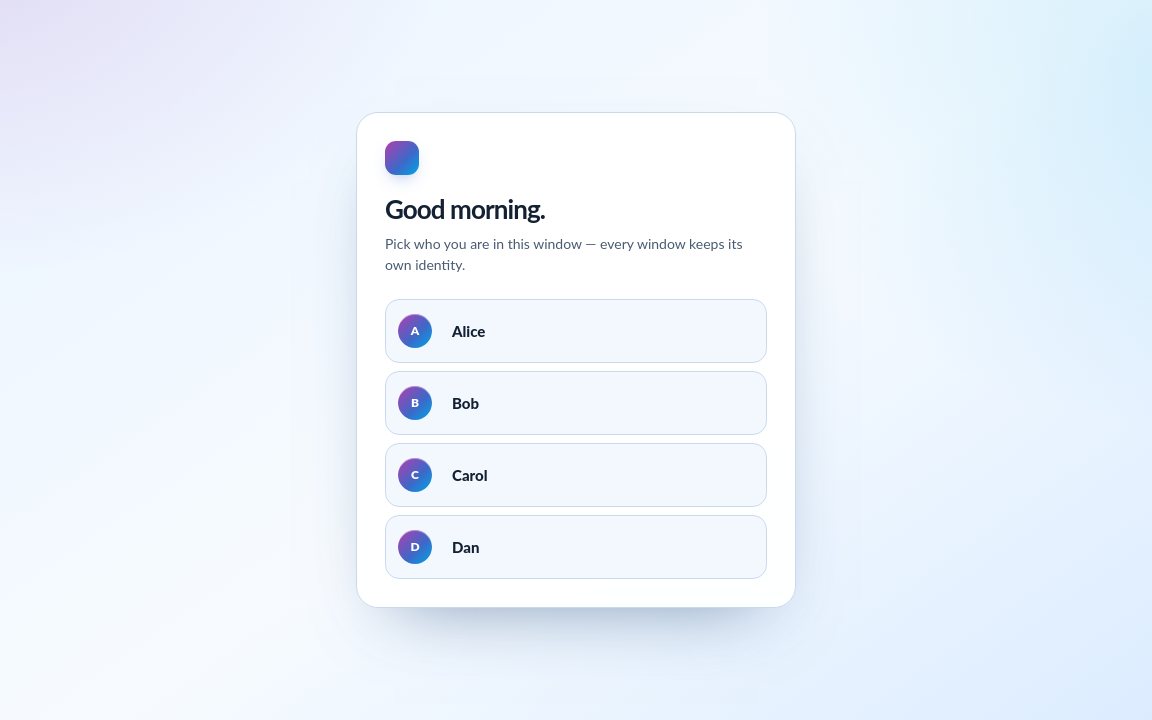
Test: conversation creation dialog — focus (task 3.6) › returns focus to the `+` control on dismissal (Escape)
Click the button "A Alice" at point(415, 331), box [385, 299, 767, 363]
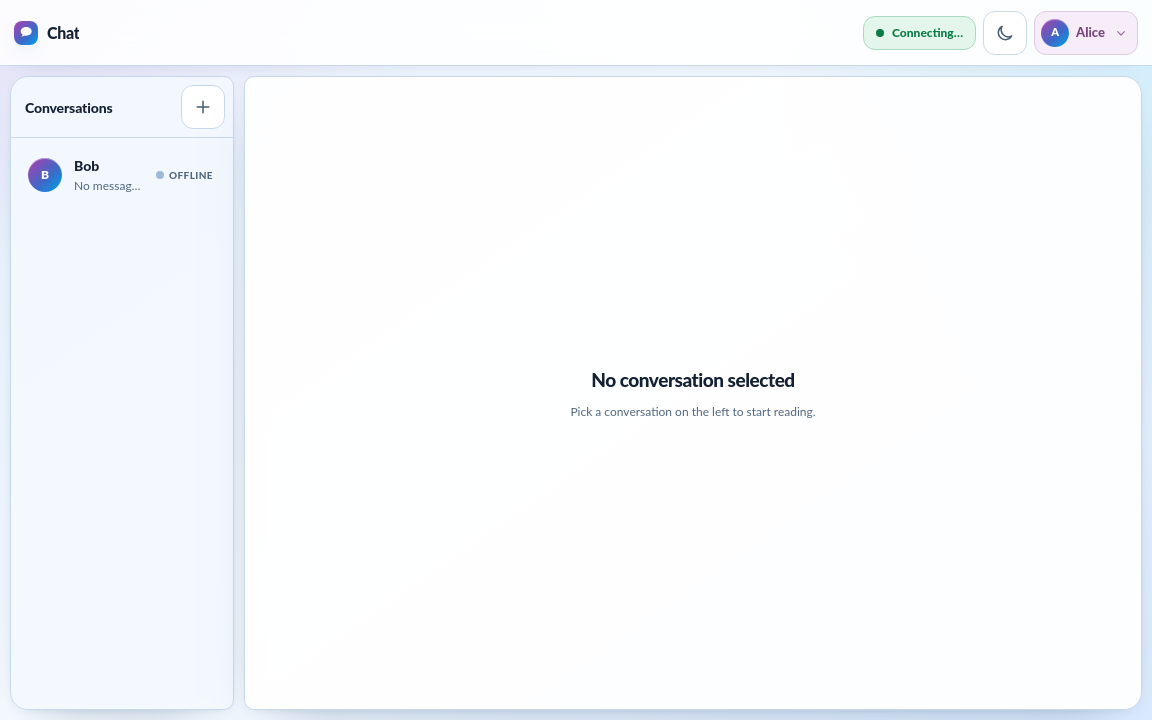
Click the button "B Bob No messages yet Offline" at point(122, 175), box [19, 146, 225, 204]
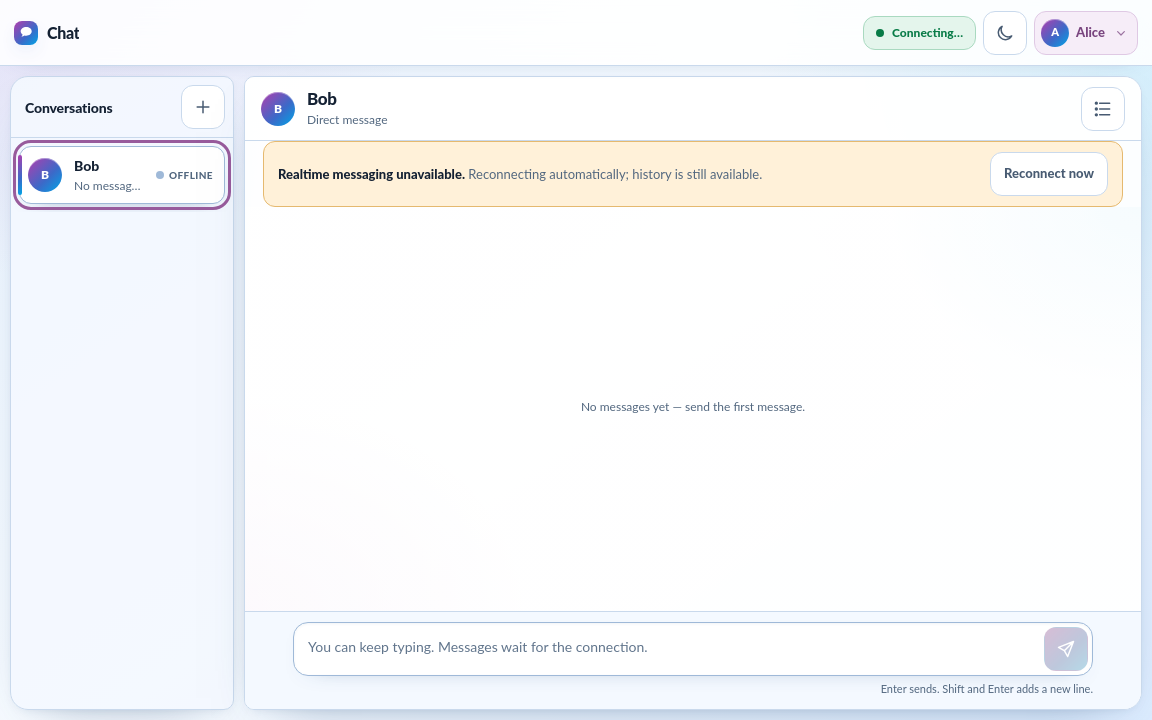
Click the button named "New conversation" at point(203, 107), box [181, 85, 225, 129]
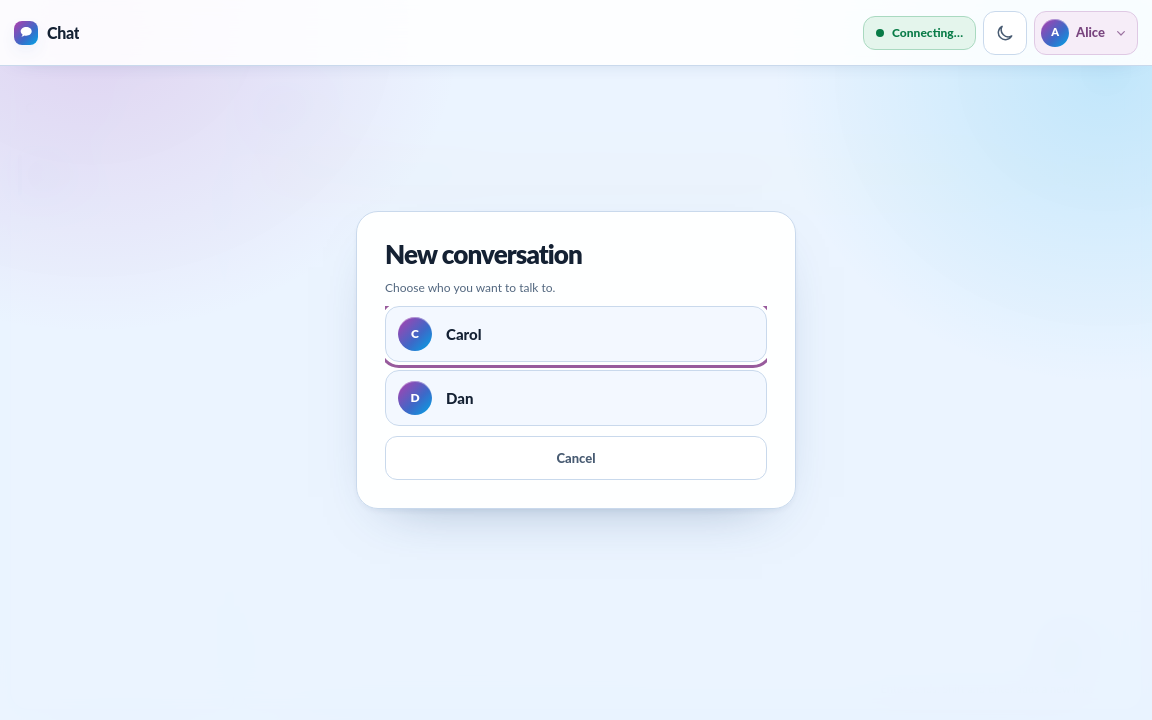
Press Escape
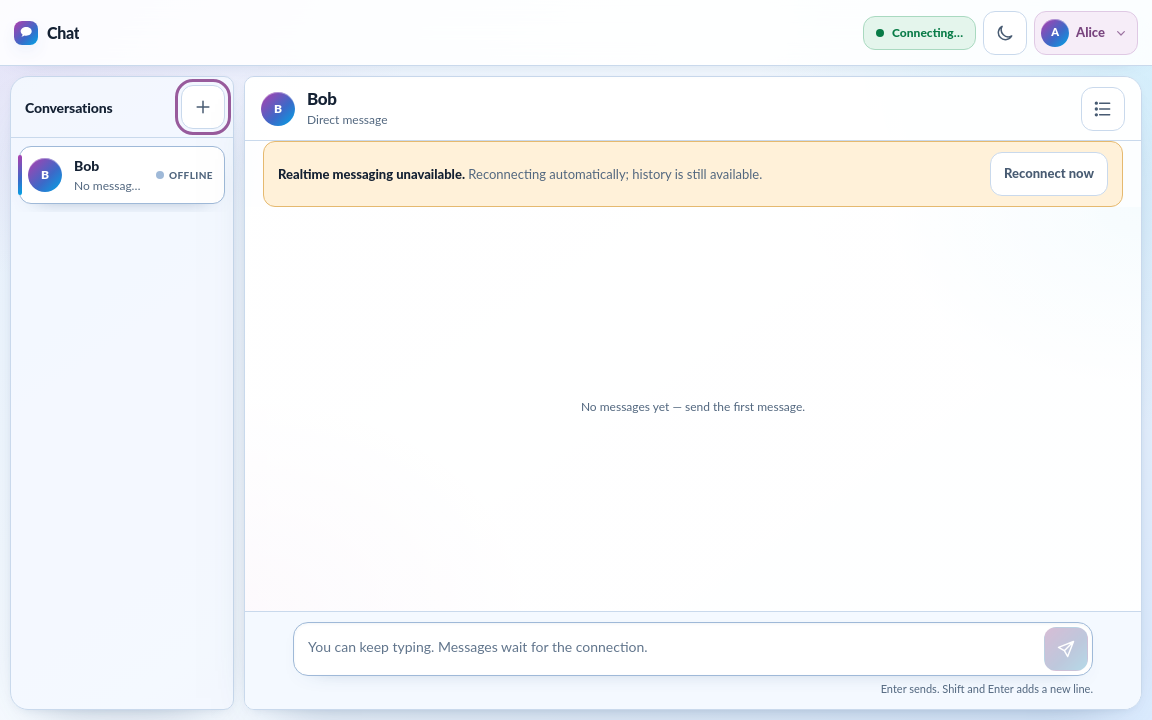
Now the dialog is gone
